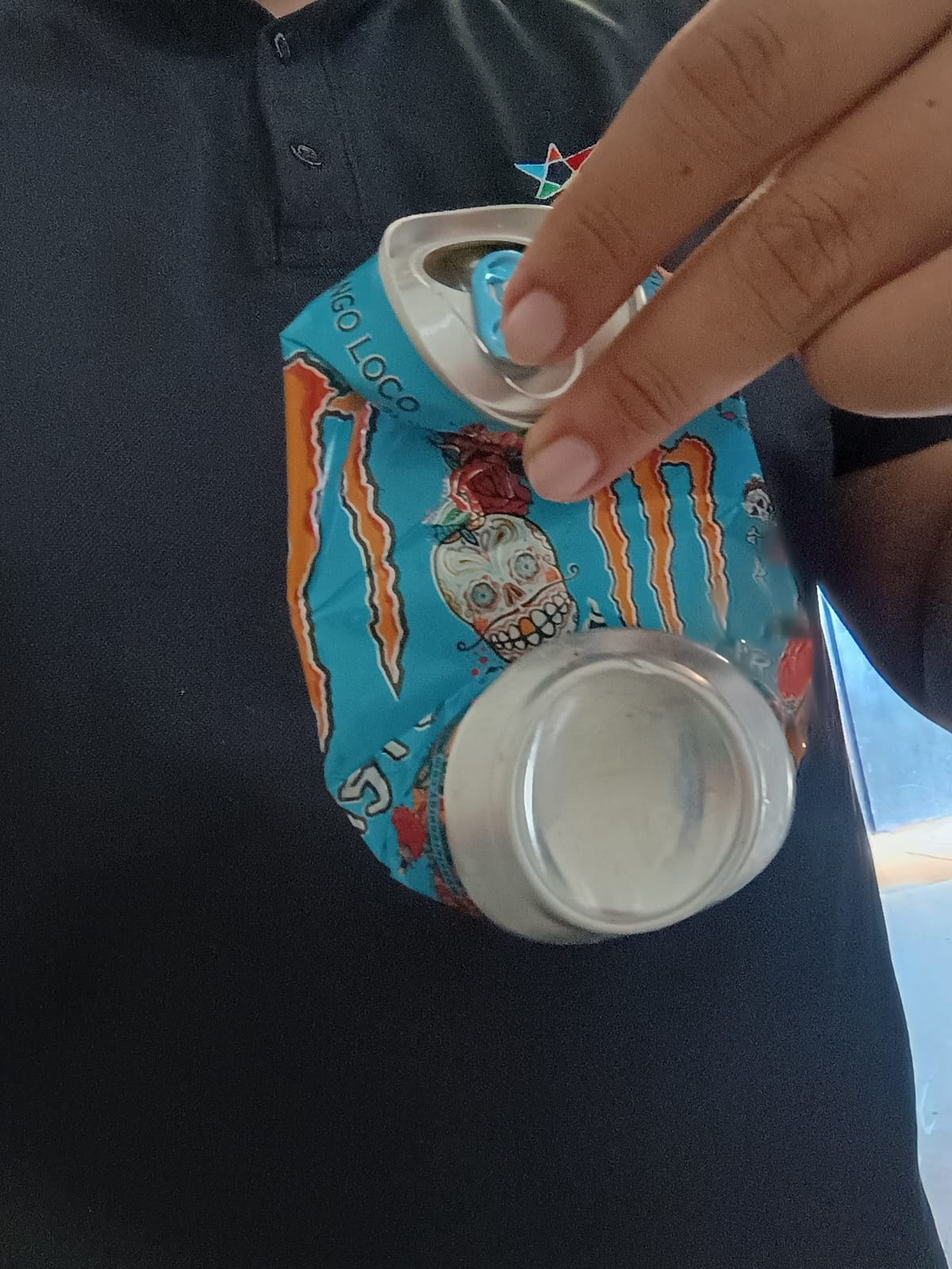Metal: (278, 205, 814, 945)
